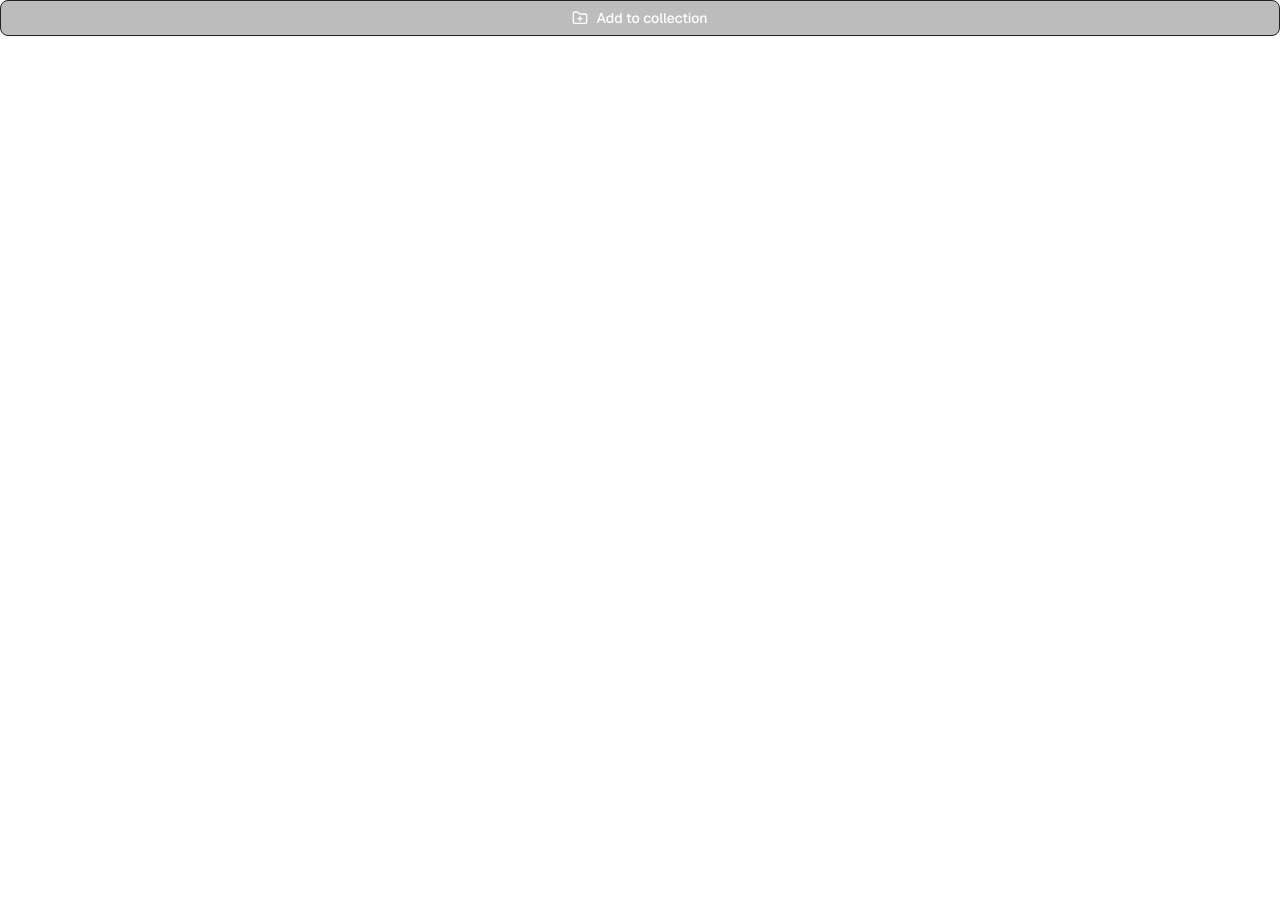
Test case: AddToCollectionPopover › shows an empty state with a link to create a collection
The image size is (1280, 900).
What coordinates should you click on to do the following:
click the button "Add to collection"
I would click on:
 (640, 18)
Its box is top-left (0, 0), bottom-right (1279, 36).
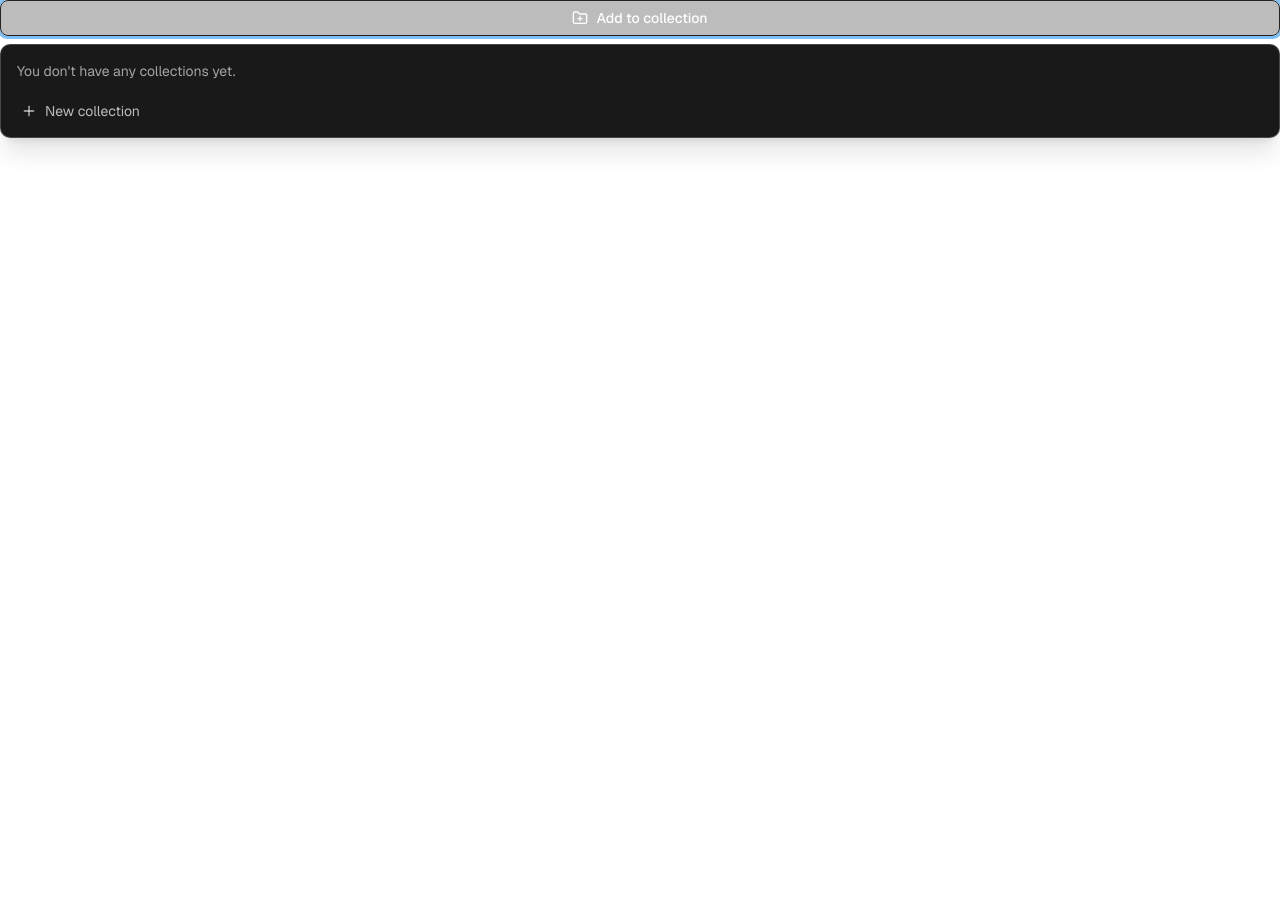
Result: the text "You don't have any collections yet." is shown at top-left (17, 62), bottom-right (236, 80)
